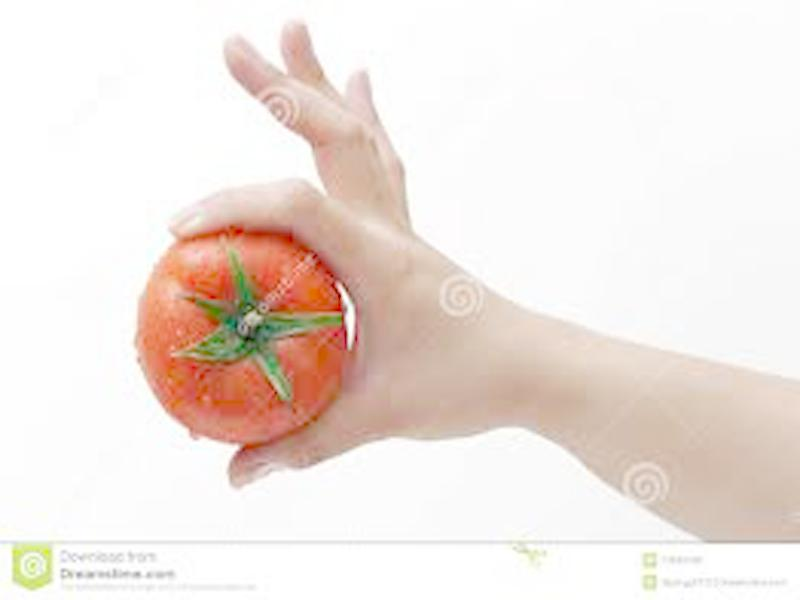Tomato: (134, 225, 348, 444)
